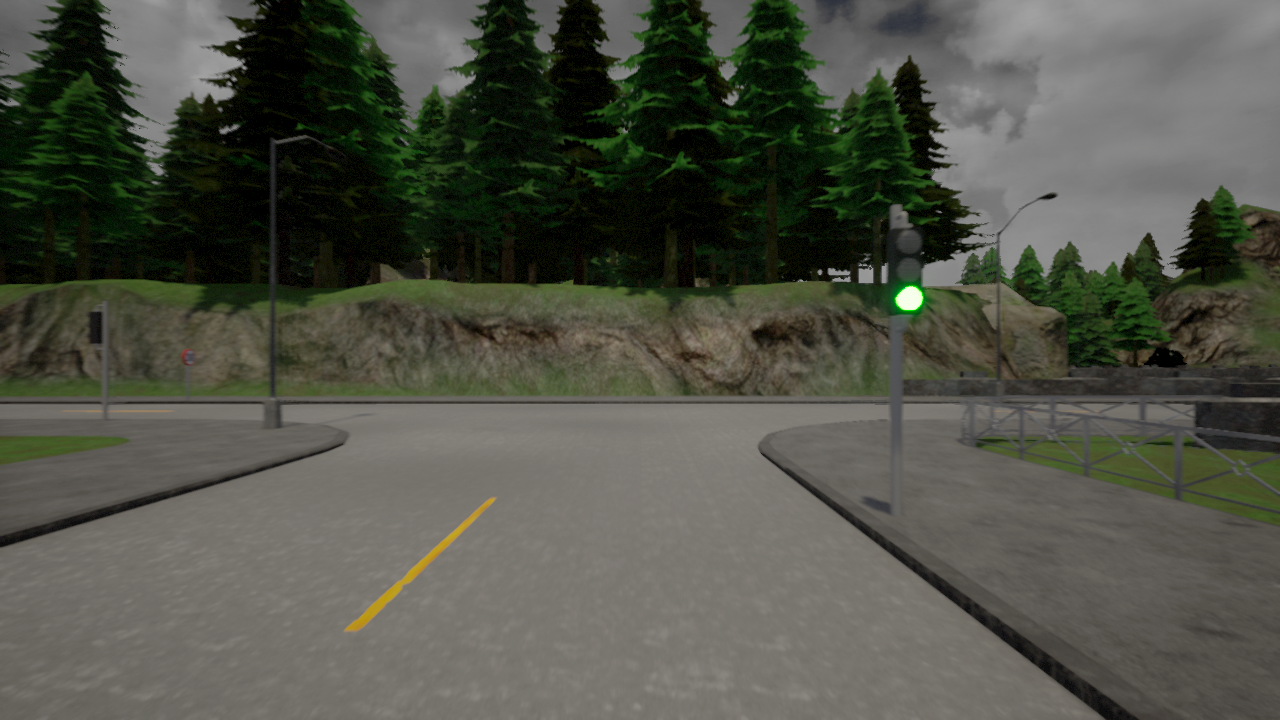green: (886, 226, 928, 321)
